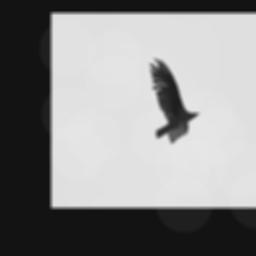Crow: (150, 56, 201, 143)
